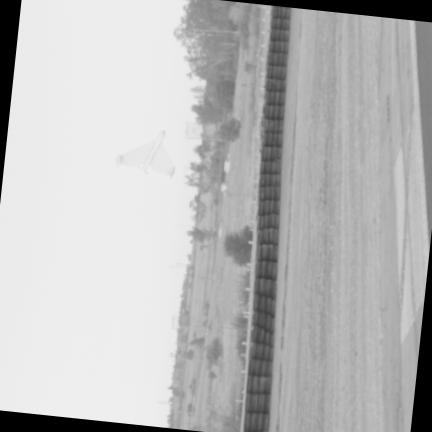Shahed: (117, 130, 173, 173)
